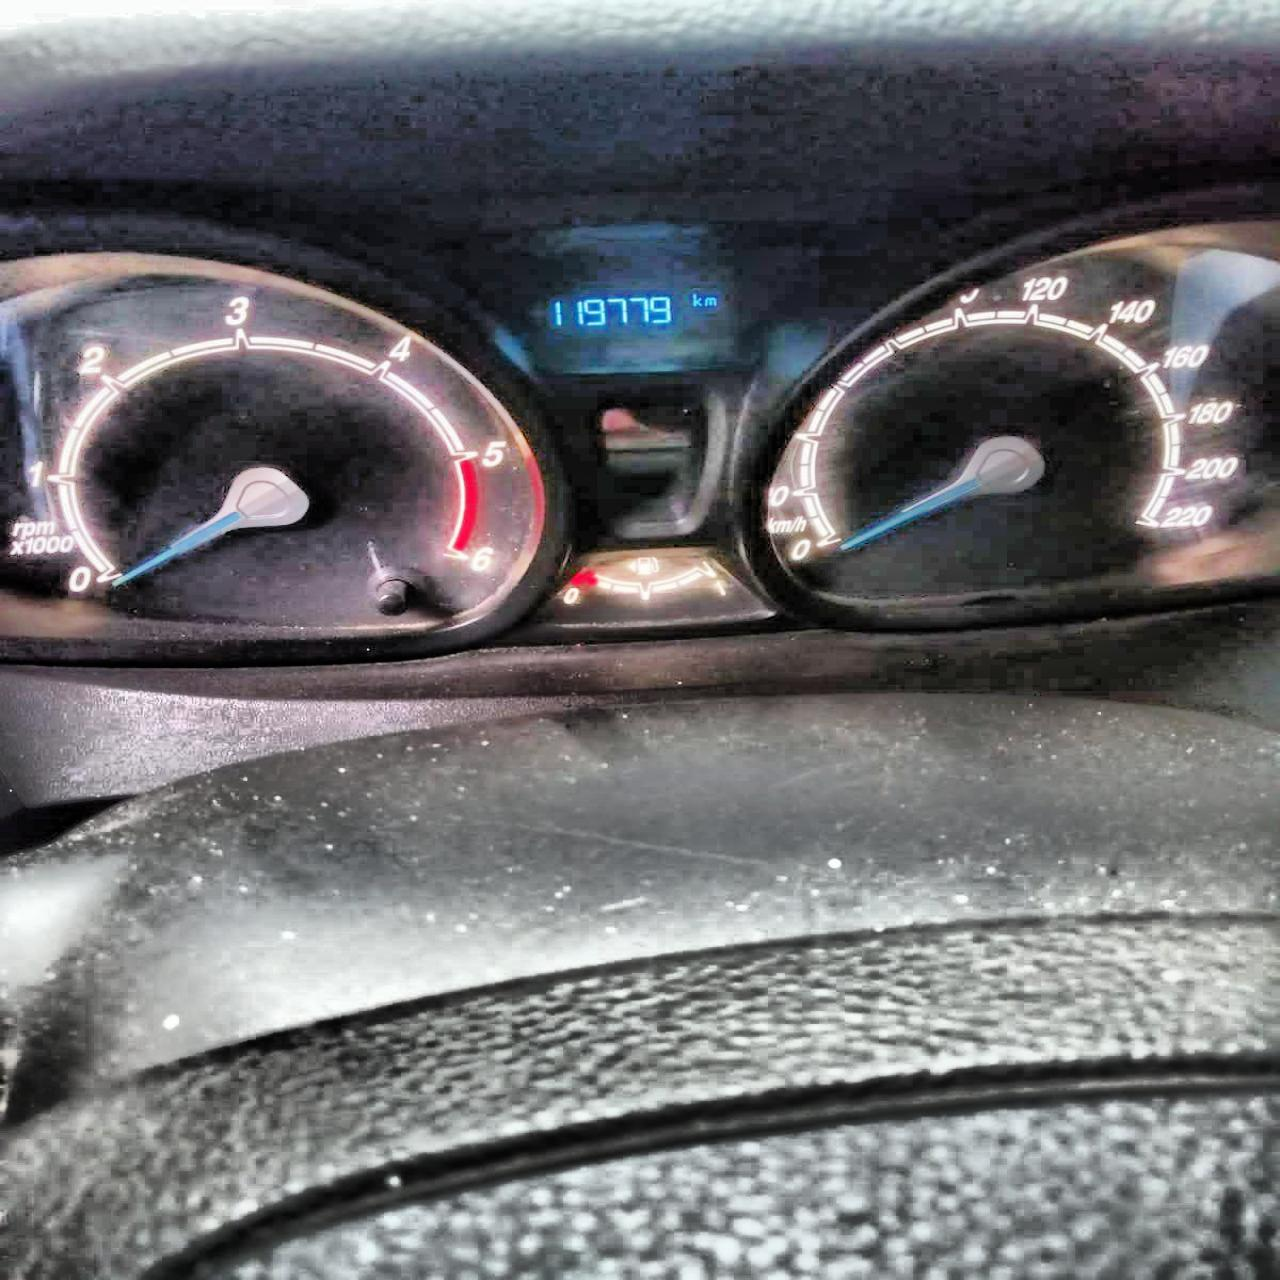1: (550, 298, 565, 327), (572, 298, 583, 326)
7: (606, 297, 627, 324), (627, 295, 648, 322)
9: (648, 294, 673, 324), (584, 297, 606, 326)
X: (692, 291, 702, 307), (703, 295, 717, 306)
odometer: (526, 277, 733, 343)
